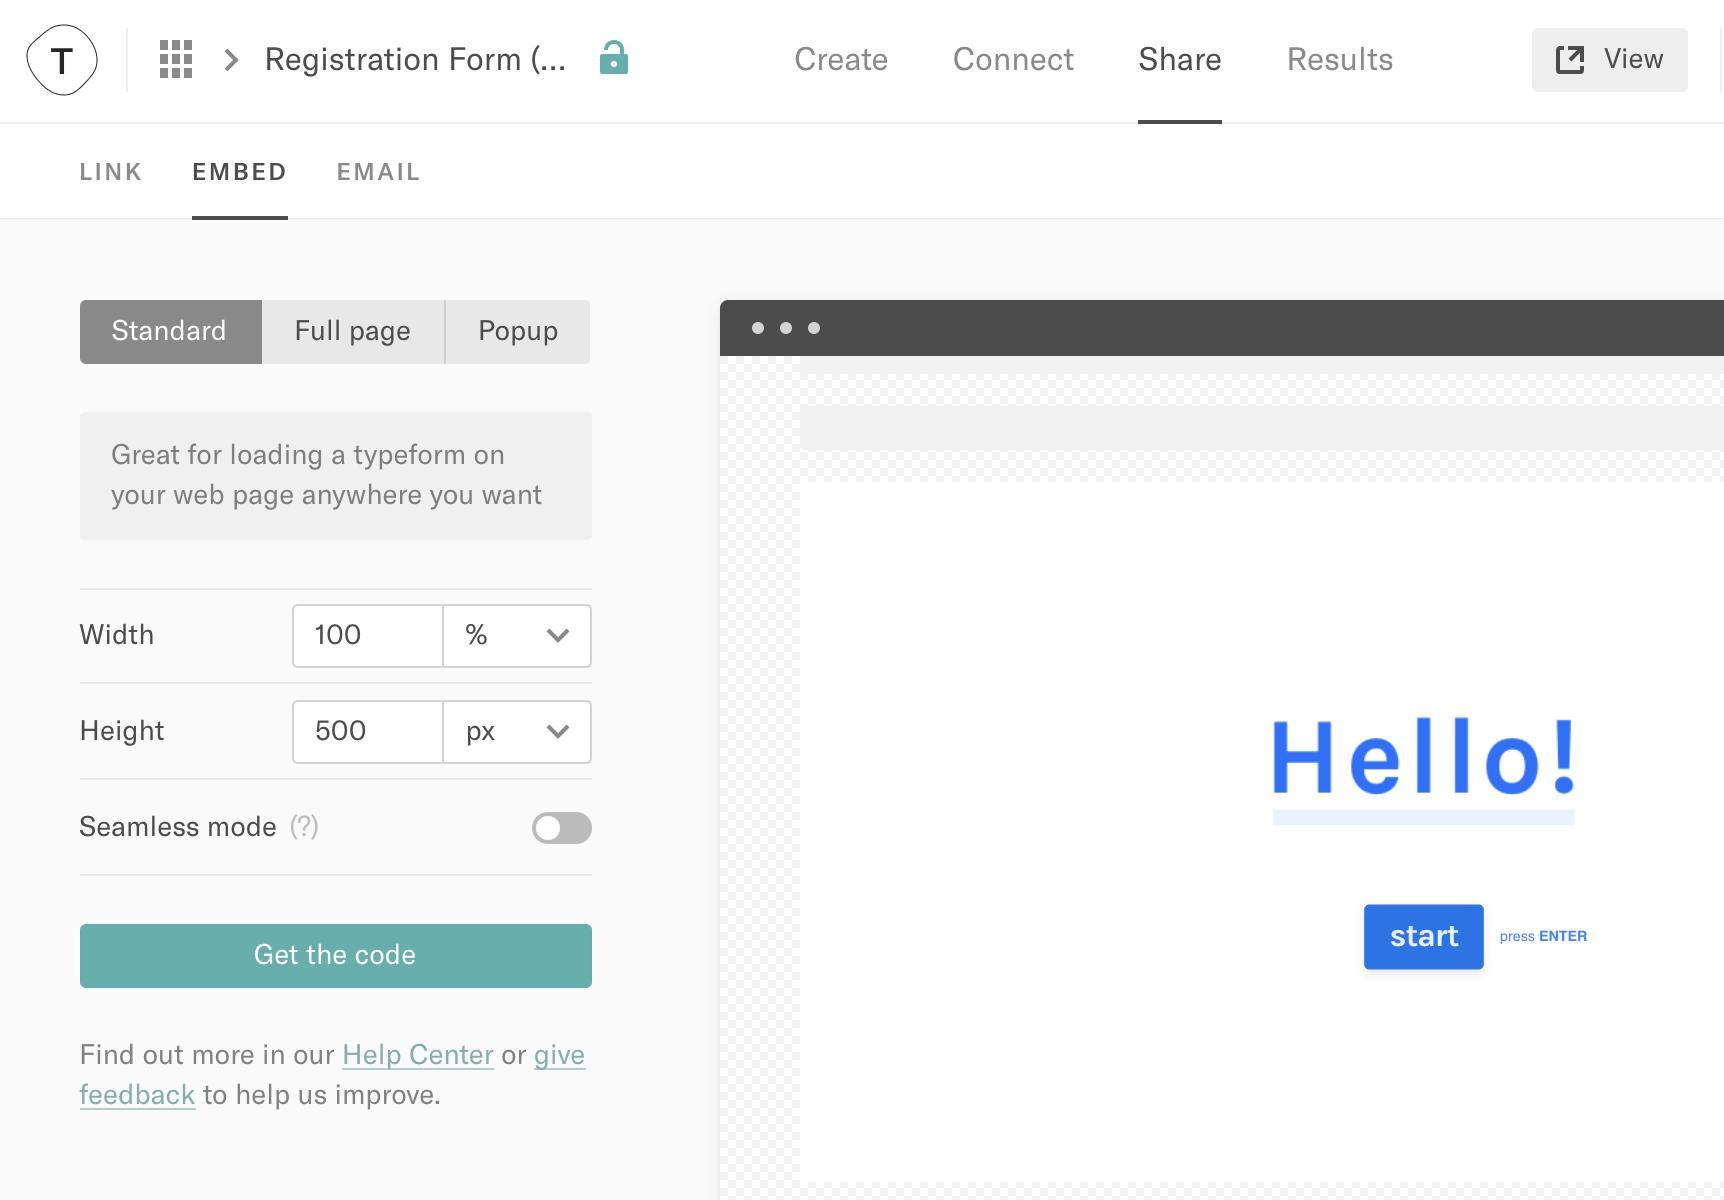button: (79, 920, 596, 993), (79, 300, 265, 369), (1531, 26, 1691, 97), (1362, 907, 1486, 968)
dropdown: (444, 605, 593, 668), (445, 703, 590, 766)
icon: (152, 37, 203, 83), (597, 35, 637, 81)
label: (107, 443, 546, 519), (265, 45, 569, 79), (77, 814, 278, 842), (947, 45, 1083, 73), (794, 45, 893, 80), (1285, 48, 1400, 79), (69, 151, 145, 193), (331, 155, 423, 187), (191, 156, 286, 186), (75, 717, 172, 745), (73, 621, 160, 650), (1137, 48, 1224, 76)
switch: (77, 1038, 583, 1117), (532, 811, 593, 848)
